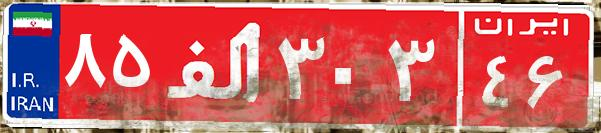0: (330, 28, 385, 110)
3: (385, 28, 445, 110), (273, 28, 330, 110)
4: (475, 38, 525, 113)
5: (110, 28, 158, 105)
6: (525, 38, 570, 115)
8: (57, 26, 110, 107)
الف: (158, 15, 273, 115)
